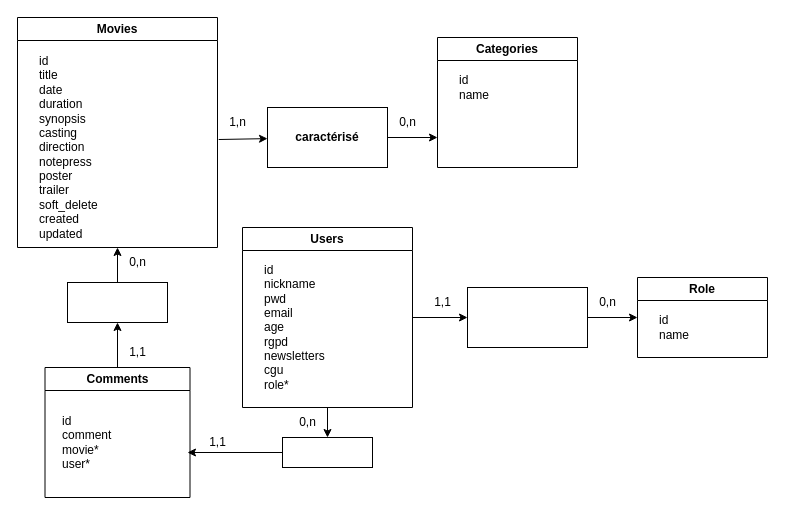
This 785x515 diagram has some shape labels left out. The shapes that lost their labels are listed below. From the top down, each one's centre as x and y in pixels, then its label:
point 117,302: commente
point 527,317: défini
point 327,452: écrit
